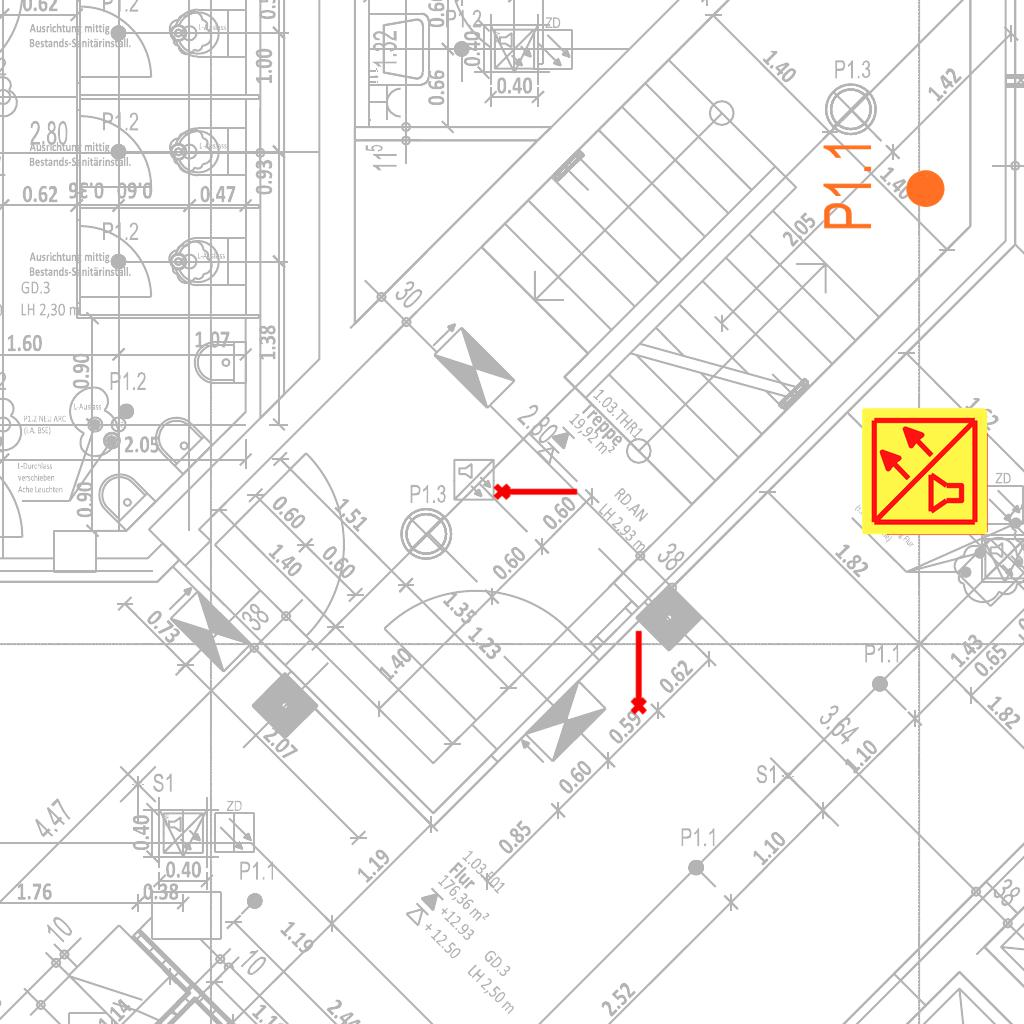ASR_Ansaugoeffnung: (492, 479, 580, 502), (626, 628, 649, 716)
Downlight_LED_Einbauleuchten_Flur: (820, 139, 948, 232)
OKW_Multisensormelder_(Kombination_optischer_Rauch-Kahlenmonoxid_Waerme-Melder): (859, 405, 991, 537)
